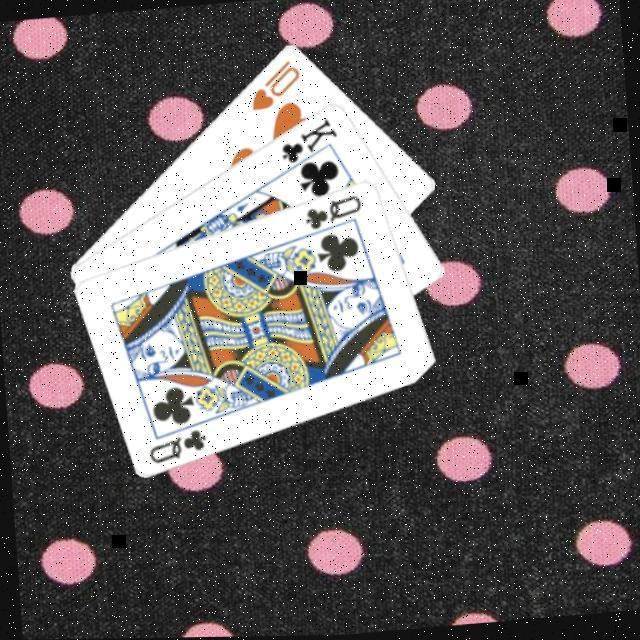10H: (243, 57, 304, 116)
KC: (274, 117, 340, 180)
QC: (299, 194, 365, 235), (143, 427, 209, 468)
